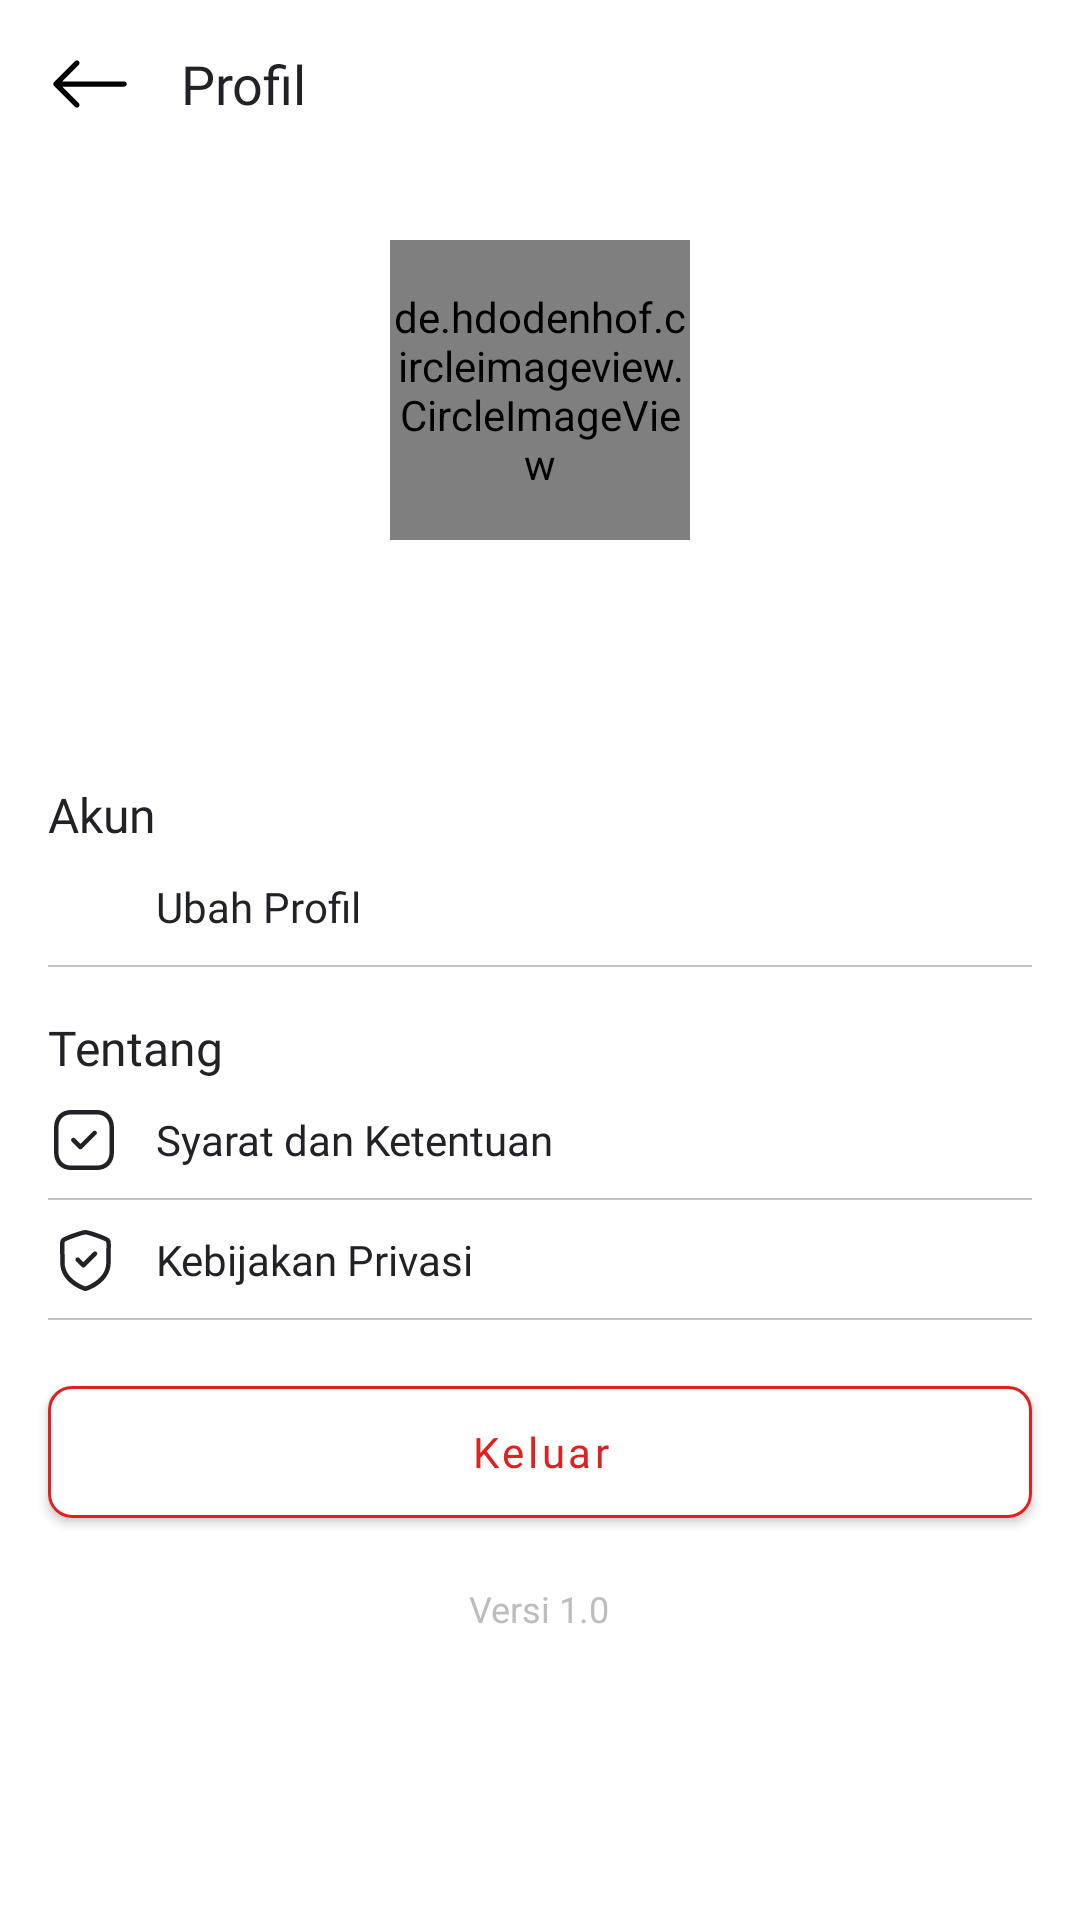

Screen size 1080w x 1920h. Icon name, then its box in pixels as [x1=x1, y1=y1, x2=x2, y2=y2]:
back: [x1=53, y1=60, x2=127, y2=108]
privacy: [x1=60, y1=1230, x2=111, y2=1291]
term: [x1=54, y1=1110, x2=114, y2=1170]
